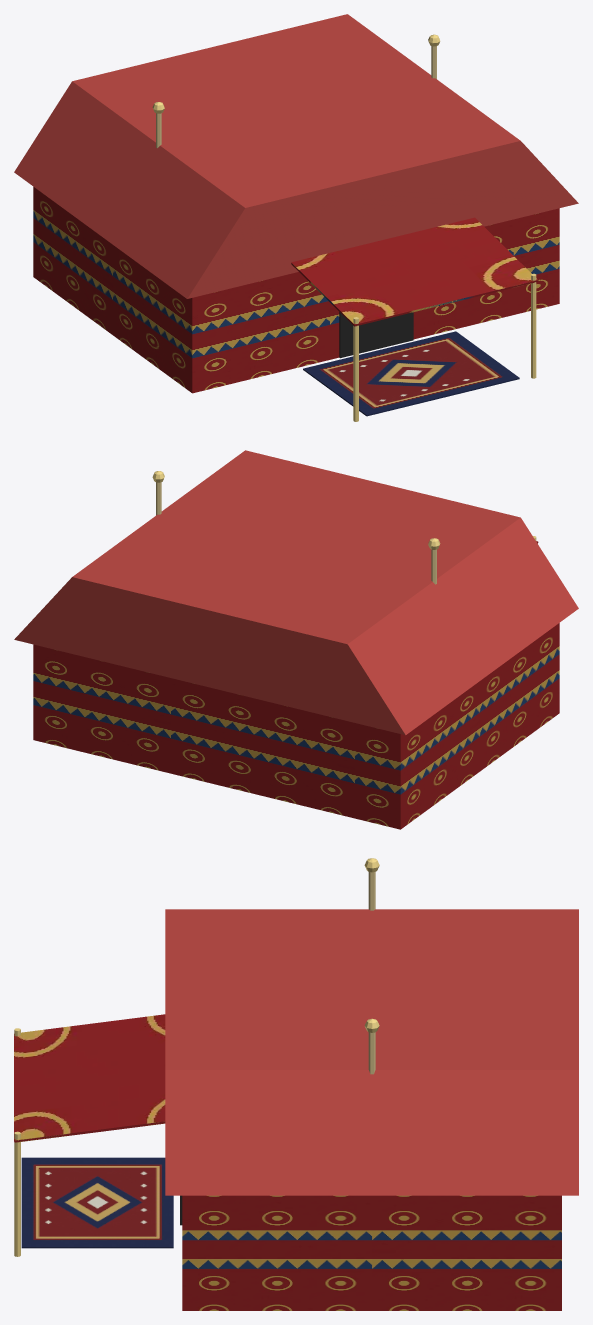
Rendered from shah_pavilion.glb.
3 views of the same model, one above another, from view 1: azimuth 30°, elevation 25°; view 2: azimuth 150°, elevation 25°; view 3: azimuth 270°, elevation 25° (orthographic). The views are drawn at different scales.
Parts seen in each view (by area): view 1: Shah_Pavilion; view 2: Shah_Pavilion; view 3: Shah_Pavilion.
Part boxes in pixels (left/top/right/bottom): Shah_Pavilion: left=14, top=14, right=578, bottom=421; Shah_Pavilion: left=14, top=450, right=578, bottom=829; Shah_Pavilion: left=14, top=858, right=578, bottom=1310.
Bounding box in the file's own units: 12.8 × 6.93 × 13.38.
Materials: 6 (2 with a texture image).
